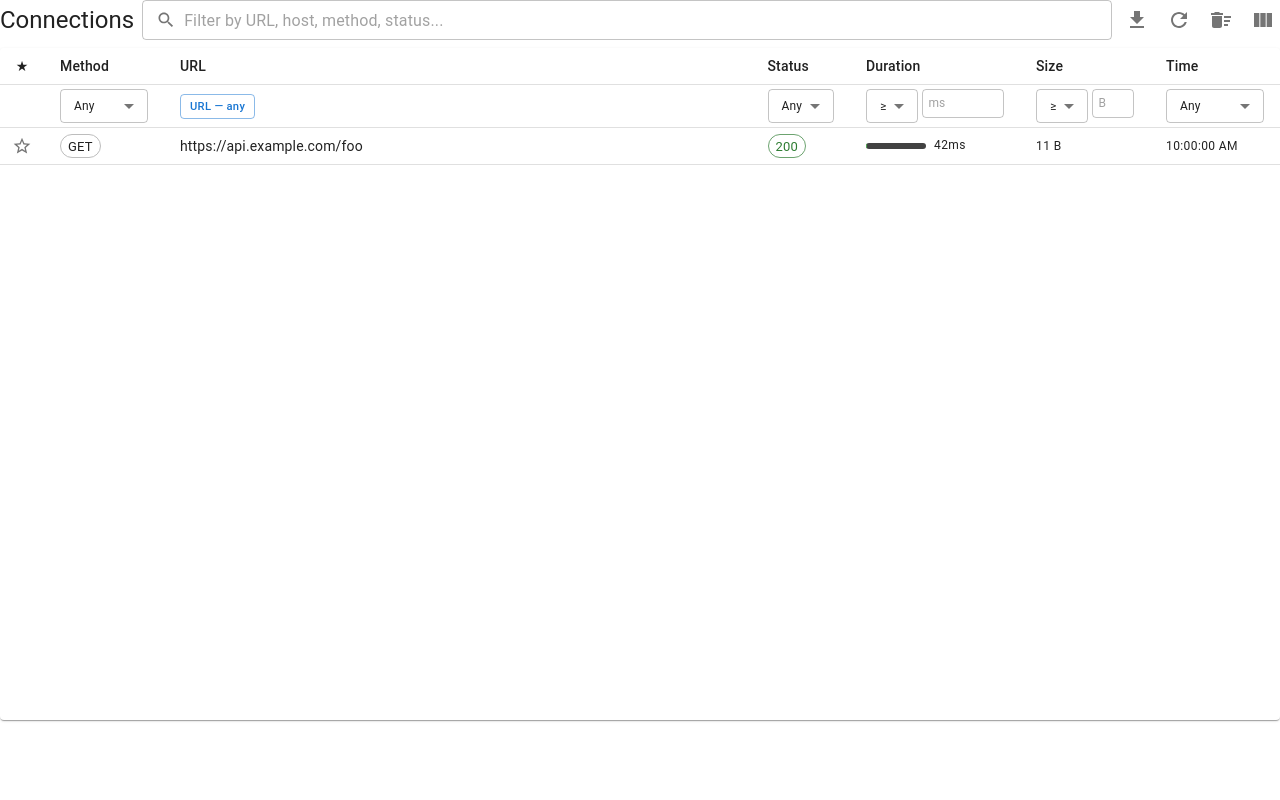
Test case: ConnectionsPage — format / codegen › pretty-prints a JSON response body when Format is clicked
Click the text "https://api.example.com/foo". click: (458,147)
box: [164,128,752,165]
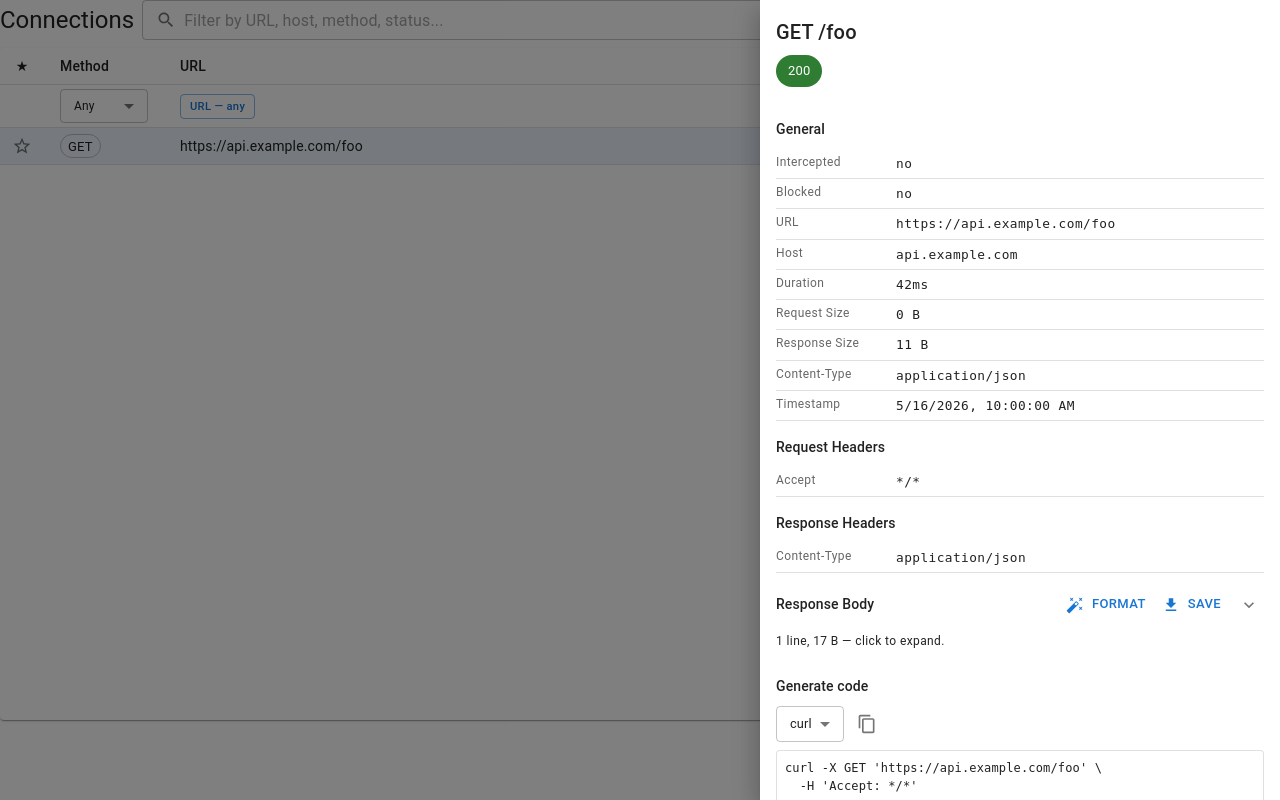
Click the button with test id "response-body-format". click: (1107,605)
box: [1063,590,1151,620]
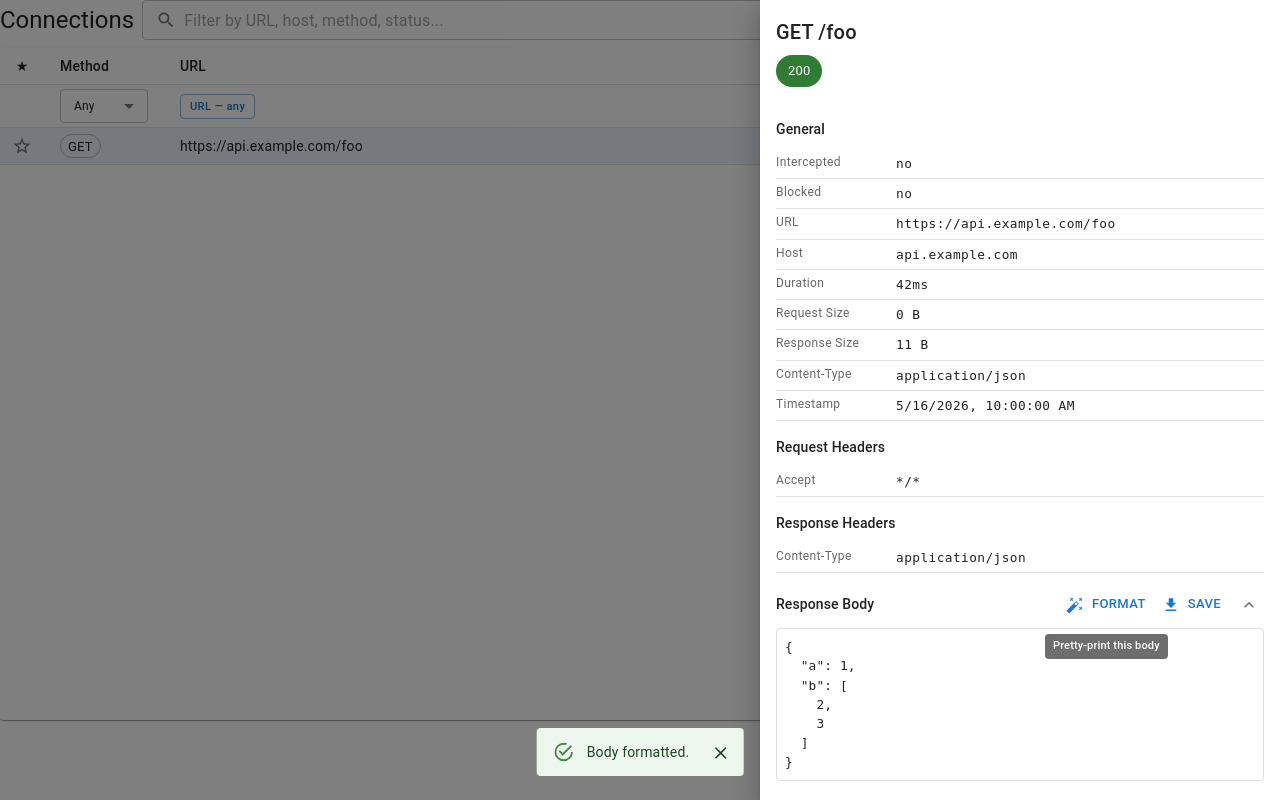
Check: the text with test id "body-preview-text" reads "{ \"a\": 1, \"b\": [ 2, 3 ] }", box [785,639,856,769]
